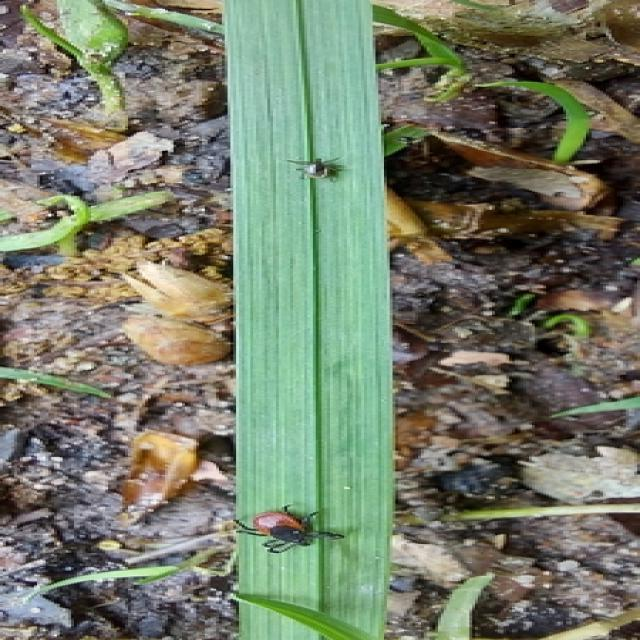Ixodes Ricinus-F: (230, 504, 344, 553)
